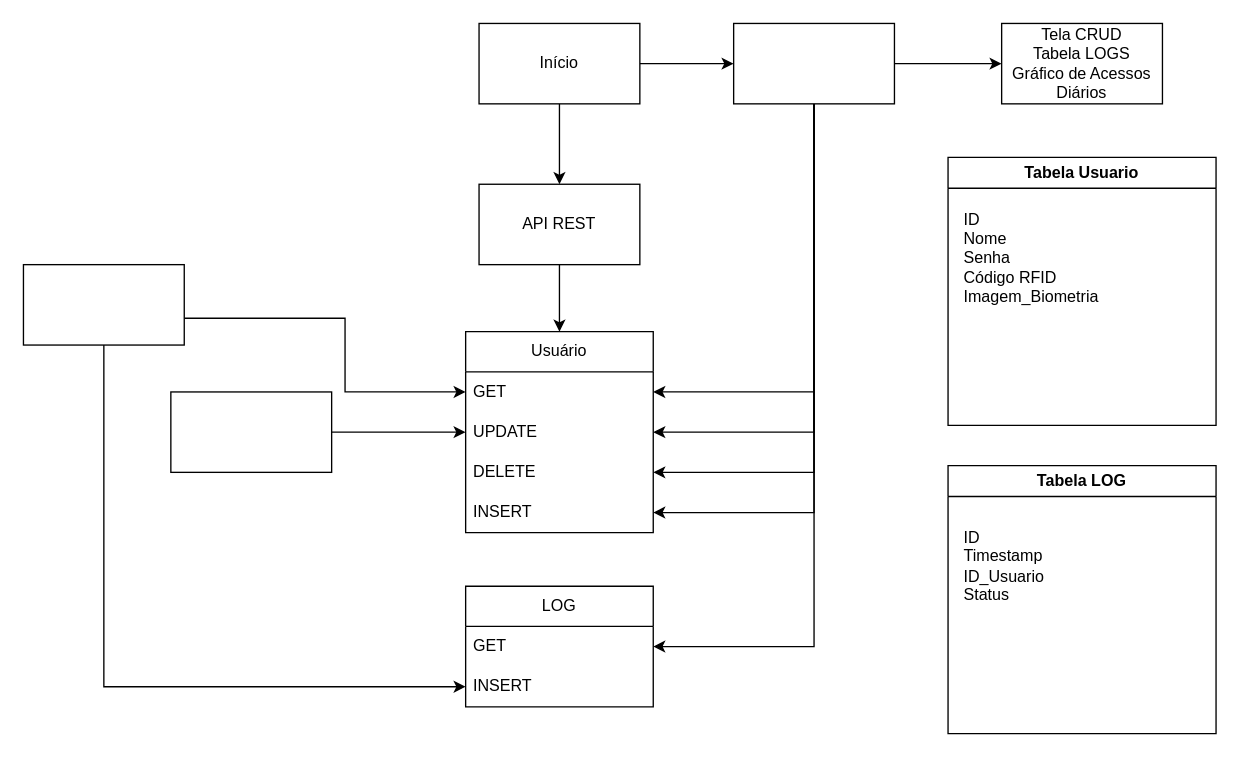
Some shapes in this 1240 by 757 pixel diagram are drawn without their labels. The shapes that lost their labels are listed below. From the top down, each one's centre as x and y in pixels, then its label:
At (813,63): "FRONTEND".
At (103,304): "ESP32 PORTA".
At (251,431): "ESP32 ADMIN".
